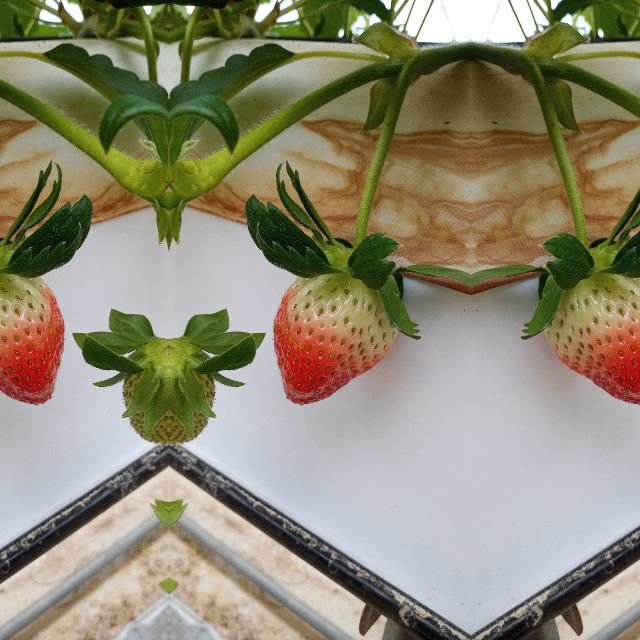Health_50: (272, 272, 398, 406), (542, 272, 640, 406), (0, 272, 64, 406)
